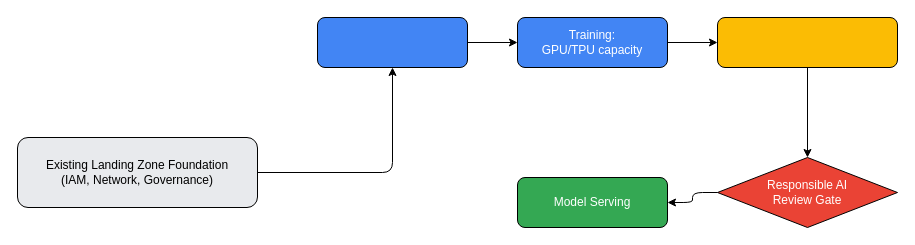
This 915x245 diagram has some shape labels left out. Each missing label, with the box of its shape:
Data Pipeline: (316, 16, 468, 68)
Model Registry: versioning, lineage: (716, 16, 898, 68)
